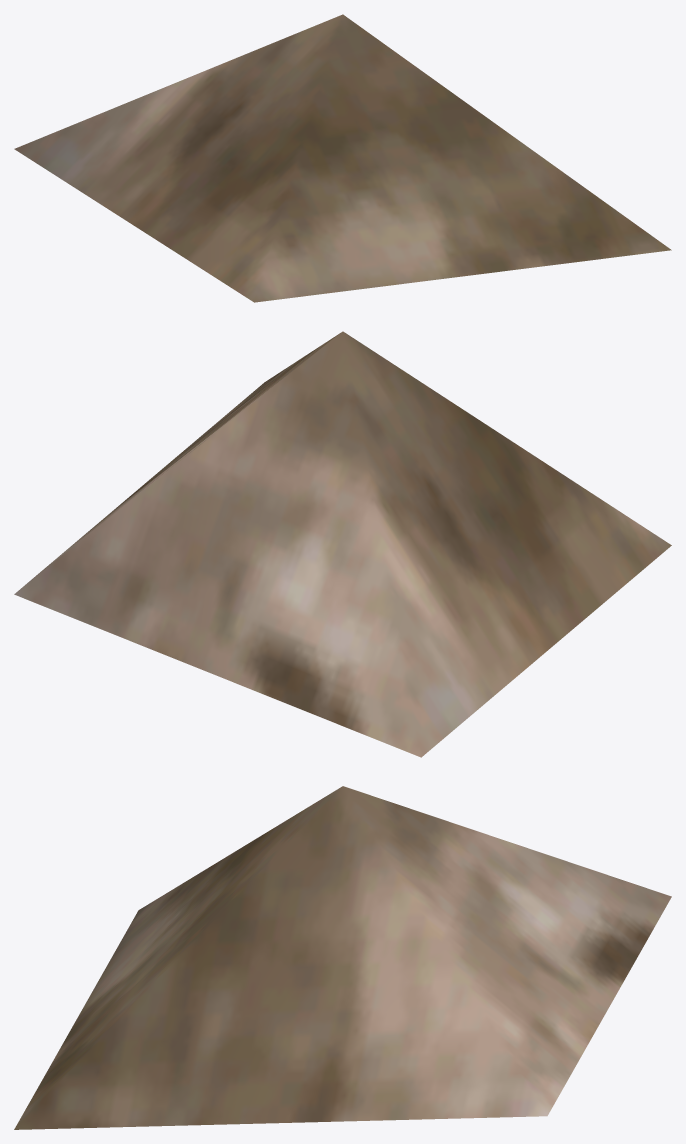
The model's file is OVERHILL_A_01_PLANE08.fbx.
3 views of the same model, one above another, from view 1: azimuth 30°, elevation 25°; view 2: azimuth 150°, elevation 25°; view 3: azimuth 270°, elevation 25° (orthographic). The views are drawn at different scales.
Parts seen in each view (by area): view 1: OVERHILL_A_01_PLANE08; view 2: OVERHILL_A_01_PLANE08; view 3: OVERHILL_A_01_PLANE08.
Part boxes in pixels (<box>): OVERHILL_A_01_PLANE08: <box>14,14,671,302</box>; OVERHILL_A_01_PLANE08: <box>14,331,671,757</box>; OVERHILL_A_01_PLANE08: <box>14,786,671,1129</box>.
Bounding box in the file's own units: 1238 × 562 × 1476.
1 material, 1 textured.
